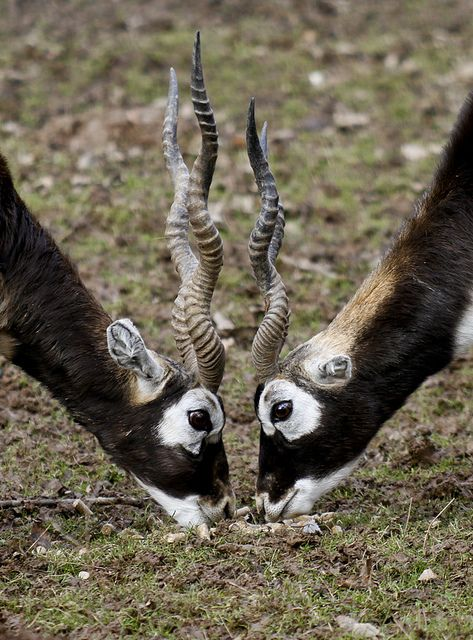Blackbuck: (1, 24, 239, 543), (247, 27, 473, 541)
